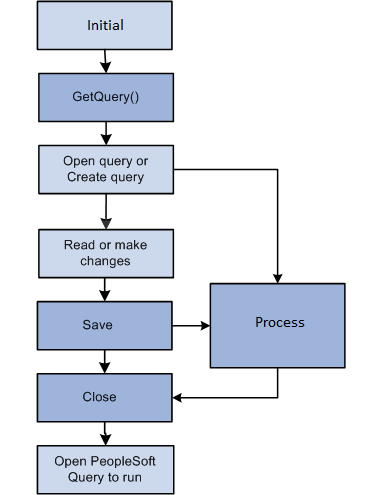arrow: (176, 166, 283, 283), (169, 370, 281, 403), (170, 319, 206, 333), (100, 195, 113, 230), (98, 50, 111, 75), (100, 121, 113, 145), (98, 275, 111, 299), (97, 421, 109, 444), (99, 350, 111, 372)
process: (208, 281, 347, 371), (36, 71, 176, 125), (36, 227, 176, 281), (35, 299, 175, 352), (34, 372, 174, 424), (37, 144, 176, 196), (34, 444, 179, 493), (34, 1, 176, 51)
text: (53, 455, 157, 484), (61, 153, 148, 184), (61, 239, 146, 269), (70, 88, 141, 105), (253, 315, 305, 330), (82, 18, 125, 31), (80, 318, 113, 333), (82, 390, 117, 403)
